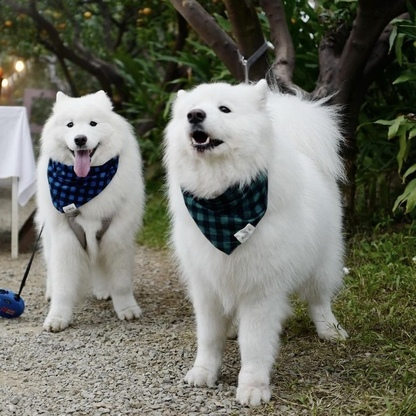samoyed: (157, 71, 357, 410), (26, 78, 154, 334)
